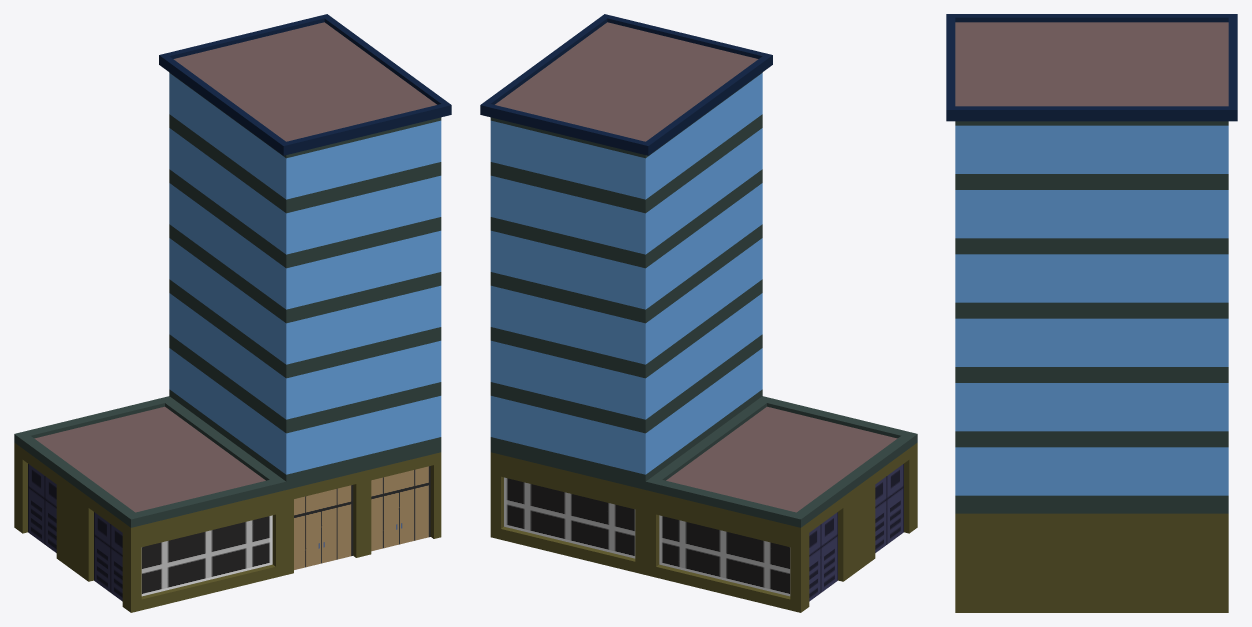
File: building23a.FBX
3 views of the same model, side by side, from view 1: azimuth 30°, elevation 25°; view 2: azimuth 150°, elevation 25°; view 3: azimuth 270°, elevation 25° (orthographic). The views are drawn at different scales.
Visible parts, largest first — view 1: building23a; view 2: building23a; view 3: building23a.
Part boxes in pixels (x1=…): building23a: x1=14, y1=14, x2=451, y2=612; building23a: x1=480, y1=14, x2=917, y2=612; building23a: x1=946, y1=14, x2=1237, y2=612.
Size of the model in its own units: 30.45 by 39.78 by 20.71.
